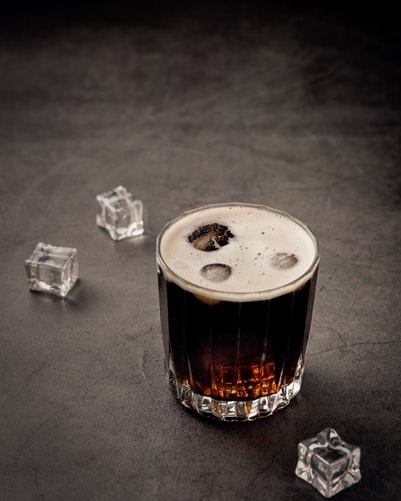whiskey: (155, 216, 312, 430)
